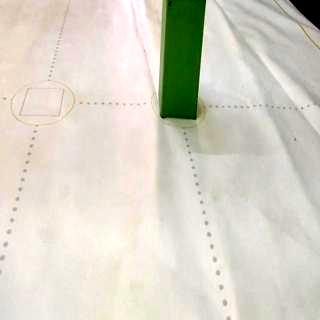greenbox: (160, 0, 208, 119)
